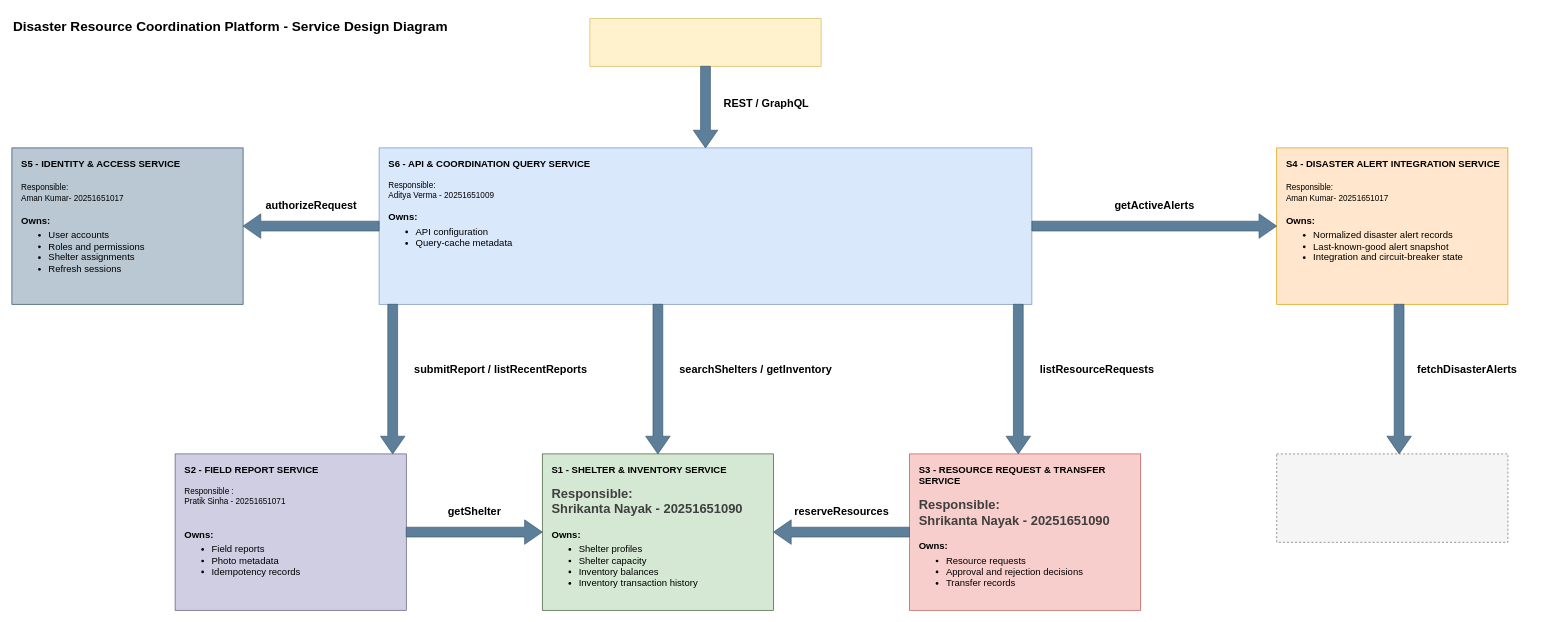
Some shapes in this 1564 by 622 pixel diagram are drawn without their labels. The centre of each missing label's shape, as x and y in pixels:
"EXTERNAL GOVERNMENT DISASTER ALERT FEED (SOAP/WSDL)" belongs at (1392,497).
"REACT FRONTEND" belongs at (705,42).
